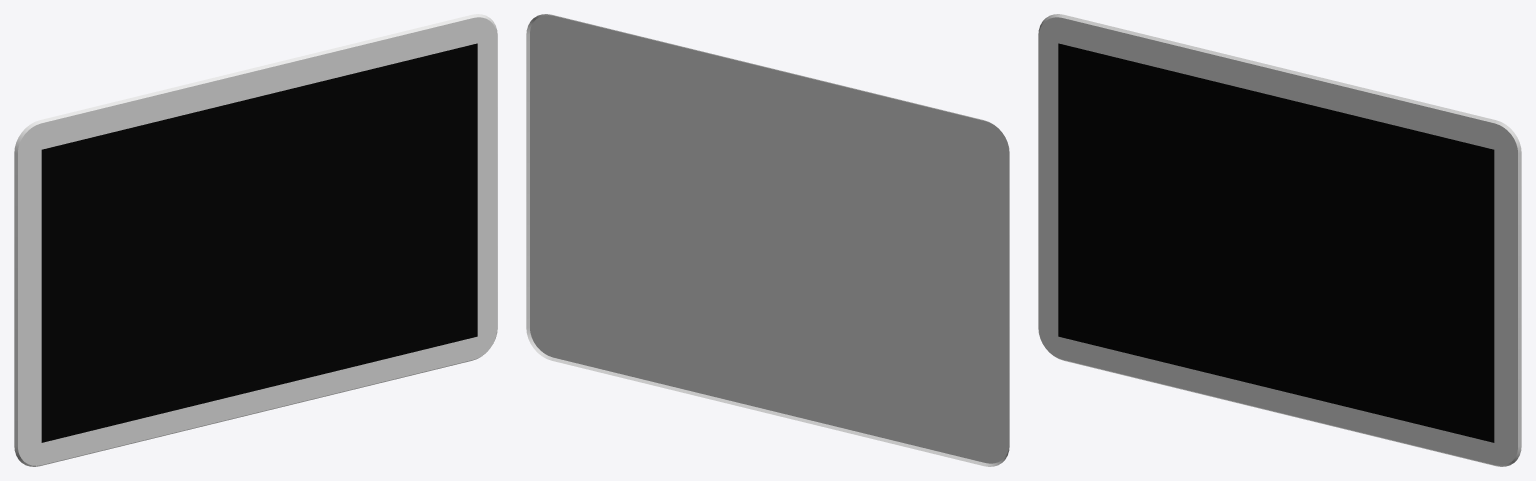
Rendered from Lab_card.fbx.
3 renders of one model, left to right at view 1: azimuth 30°, elevation 25°; view 2: azimuth 150°, elevation 25°; view 3: azimuth 330°, elevation 25°, orthographic.
Parts seen in each view (by area): view 1: text_01, Card_background; view 2: Card_background; view 3: text_01, Card_background.
Part boxes in pixels (box(x1,y1,x2,y2)): text_01: box(41, 43, 477, 442); Card_background: box(14, 14, 497, 466); Card_background: box(526, 14, 1009, 466); text_01: box(1058, 43, 1494, 442); Card_background: box(1038, 14, 1521, 466).
Bounding box in the file's own units: 1.9 × 1.3 × 0.025.
2 materials, 1 textured.
